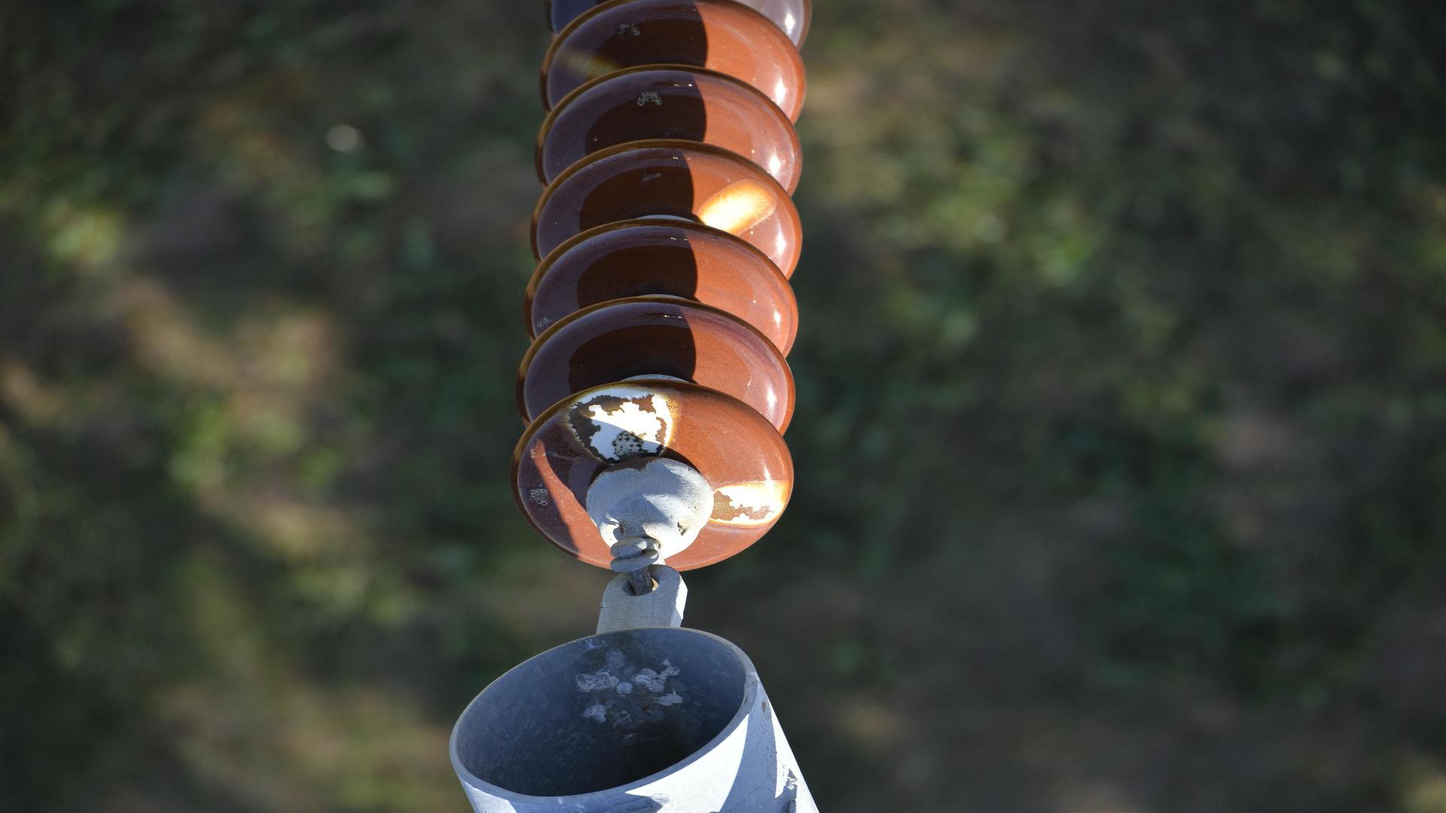insulator: (505, 1, 821, 580)
insulator_flashover: (563, 378, 685, 468), (693, 175, 781, 239), (703, 475, 795, 532), (542, 41, 615, 83)
